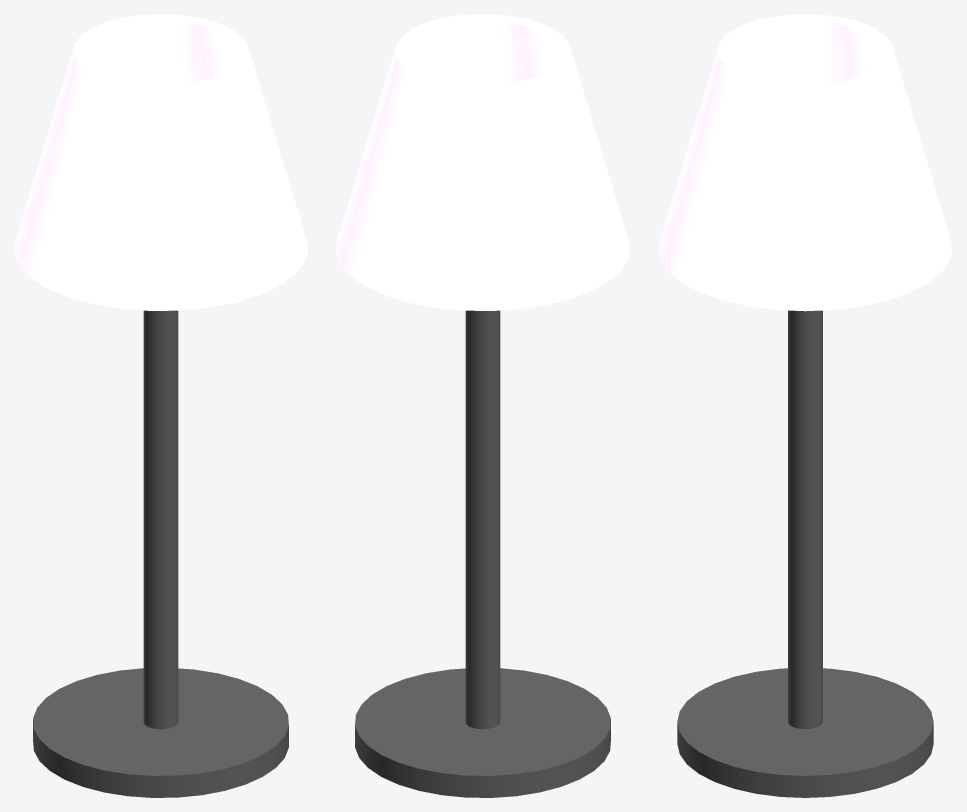
Rendered from lambacik.fbx.
3 renders of one model, left to right at view 1: azimuth 30°, elevation 25°; view 2: azimuth 150°, elevation 25°; view 3: azimuth 270°, elevation 25°, orthographic.
Visible parts, largest first — view 1: Cylinder.001; view 2: Cylinder.001; view 3: Cylinder.001.
Part boxes in pixels (x1,y1,x2,y2): Cylinder.001: (14,14,307,797); Cylinder.001: (336,14,629,797); Cylinder.001: (658,14,952,797).
Size of the model in its own units: 161 by 417 by 161.
